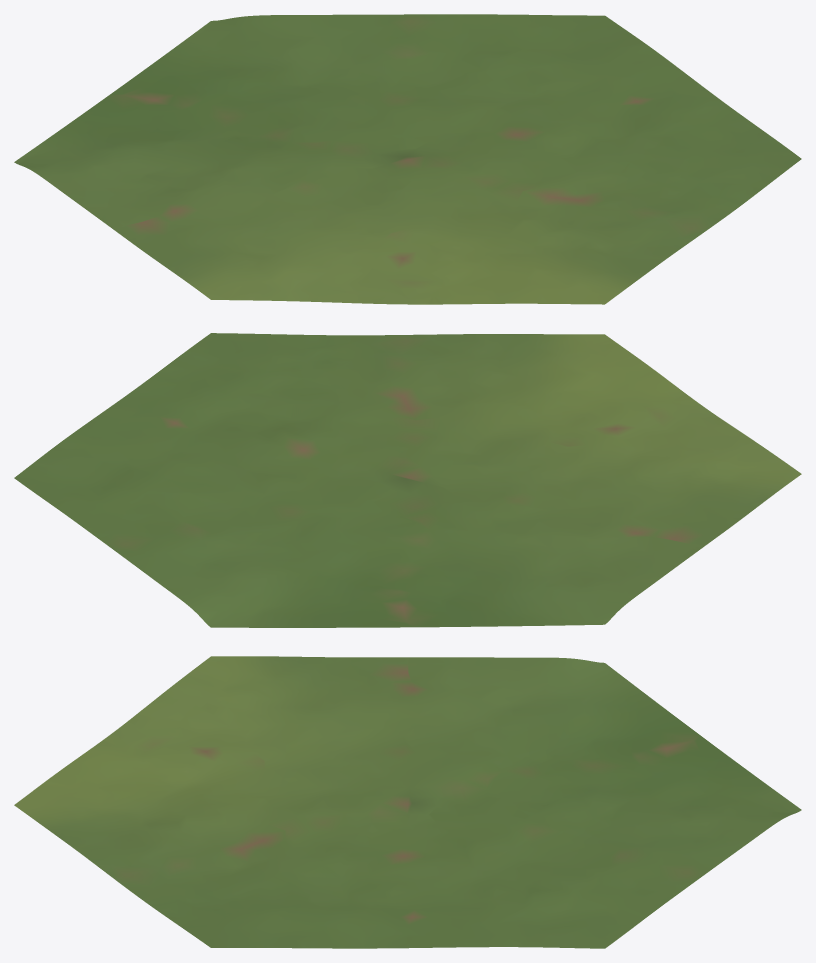
The model's file is hv_01_terrain_lod1.glb.
3 views of the same model, one above another, from view 1: azimuth 30°, elevation 25°; view 2: azimuth 150°, elevation 25°; view 3: azimuth 270°, elevation 25° (orthographic).
Visible parts, largest first — view 1: HV_01__terrain; view 2: HV_01__terrain; view 3: HV_01__terrain.
Part boxes in pixels (<box>): HV_01__terrain: <box>14,14,801,304</box>; HV_01__terrain: <box>14,333,801,627</box>; HV_01__terrain: <box>14,656,801,948</box>.
Size of the model in its own units: 4330 by 74.84 by 5000.
